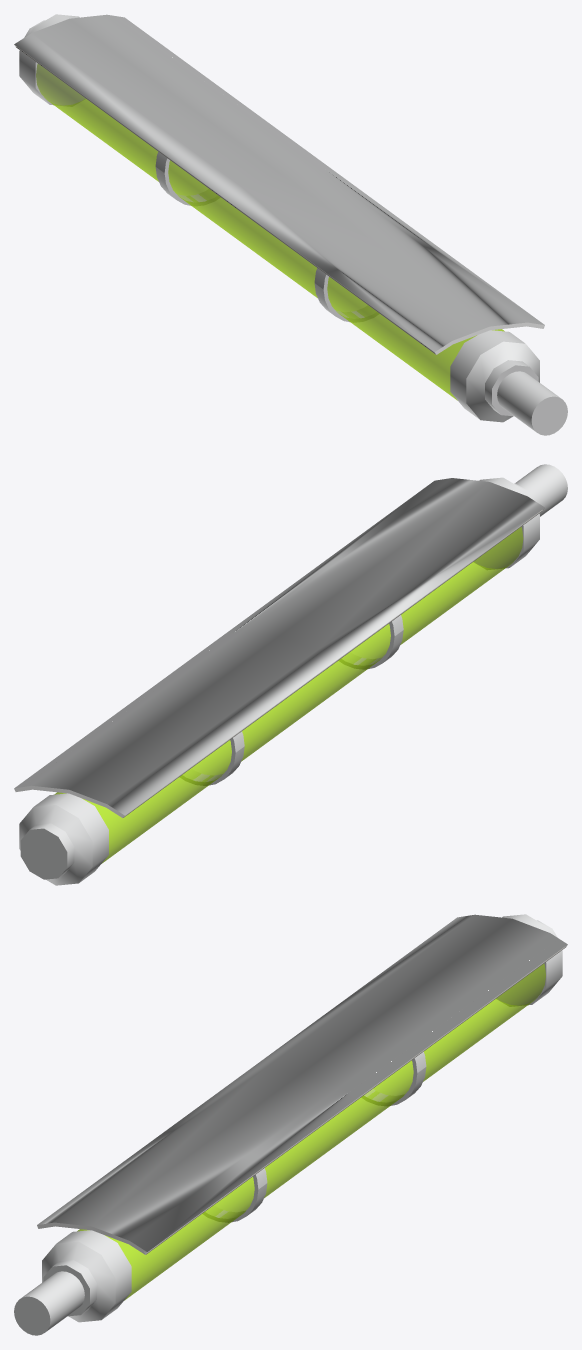
File: pbrPipe1.fbx
The picture shows the model from 3 angles, top to bottom: view 1: azimuth 30°, elevation 25°; view 2: azimuth 150°, elevation 25°; view 3: azimuth 330°, elevation 25°; orthographic projection.
Parts seen in each view (by area): view 1: zaolei-5_mesh; view 2: zaolei-5_mesh; view 3: zaolei-5_mesh.
Boxes of the visible parts, <box> form: zaolei-5_mesh: <box>14,14,567,435</box>; zaolei-5_mesh: <box>14,464,567,885</box>; zaolei-5_mesh: <box>14,914,567,1335</box>.
Bounding box in the file's own units: 15.2 × 11.5 × 120.
